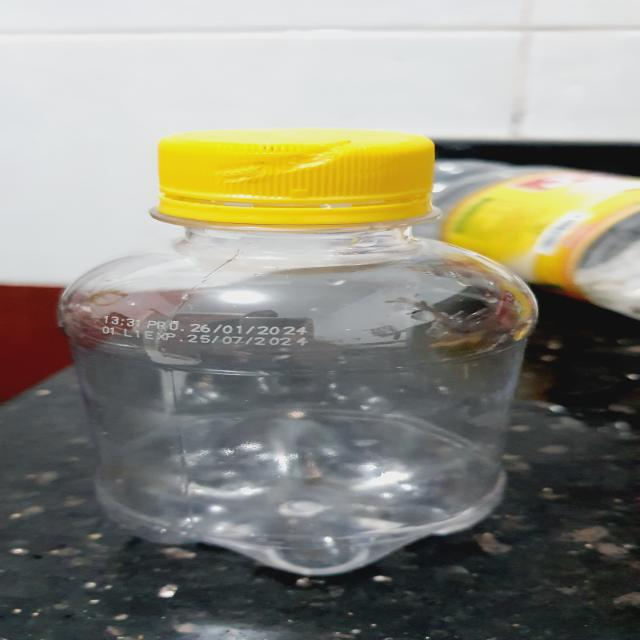plastic: (56, 128, 541, 576)
